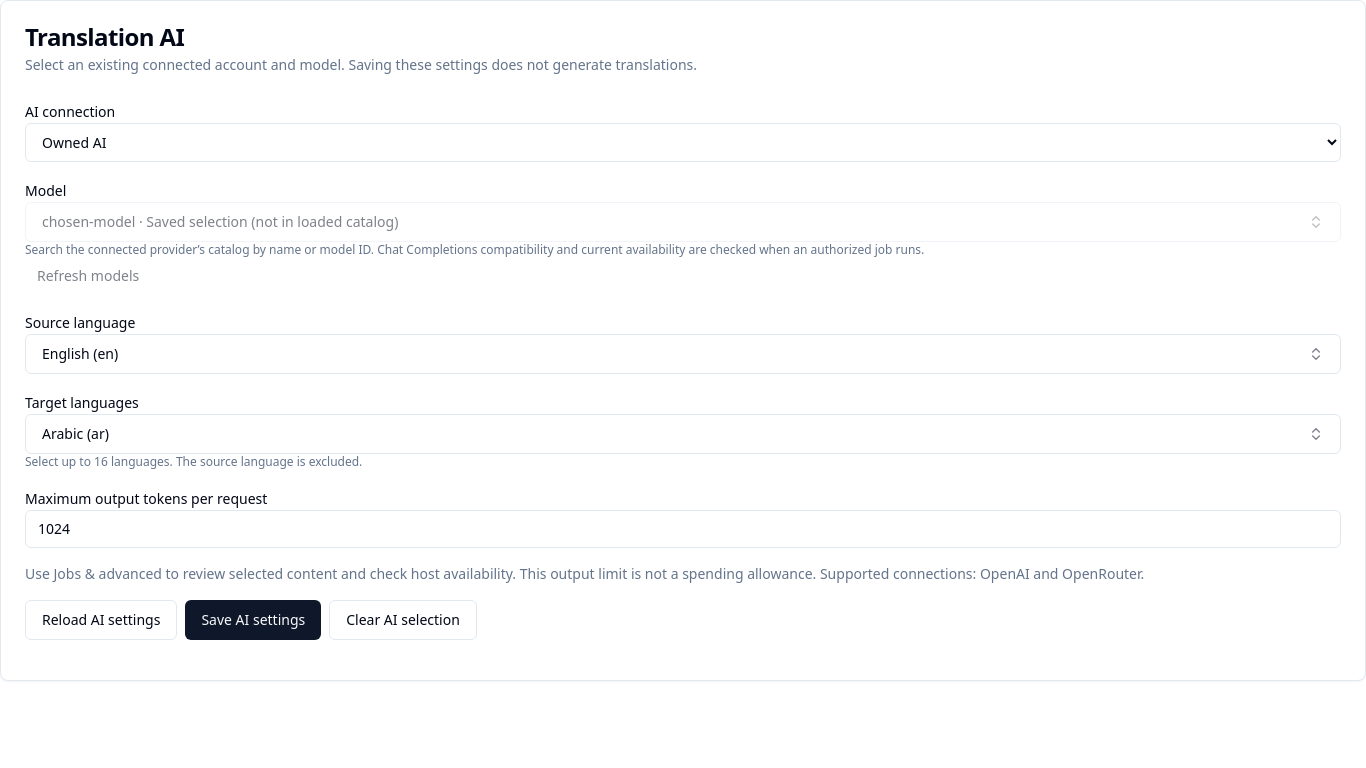
Test: Translation AI settings › redacts ambiguous save failures and disables retries
Click the button "Save AI settings". click: (253, 620)
box: 185,600 -> 321,640
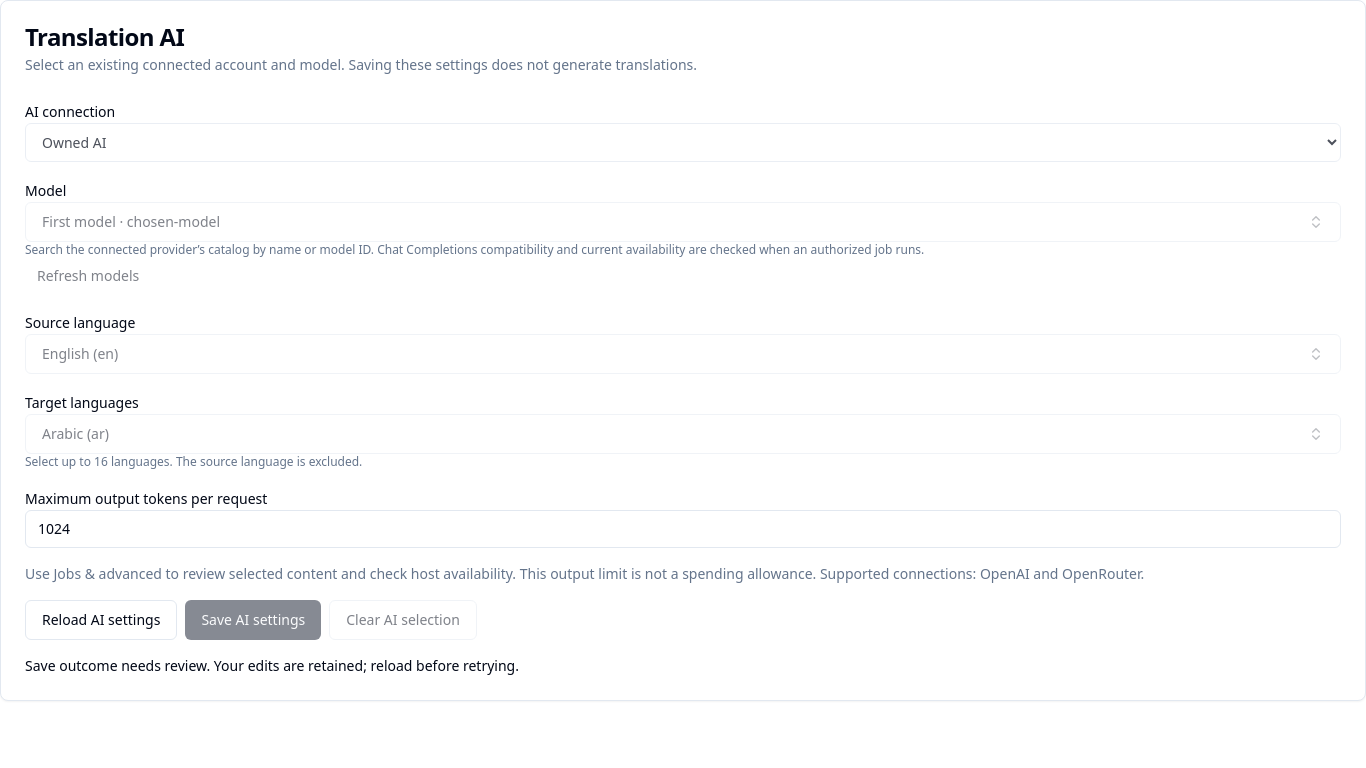
expect the text "Save outcome needs review. Your edits are retained; reload before retrying." is shown: met, box 25,656 -> 519,675
expect the button "Save AI settings" is disabled: met, box 185,600 -> 321,640
